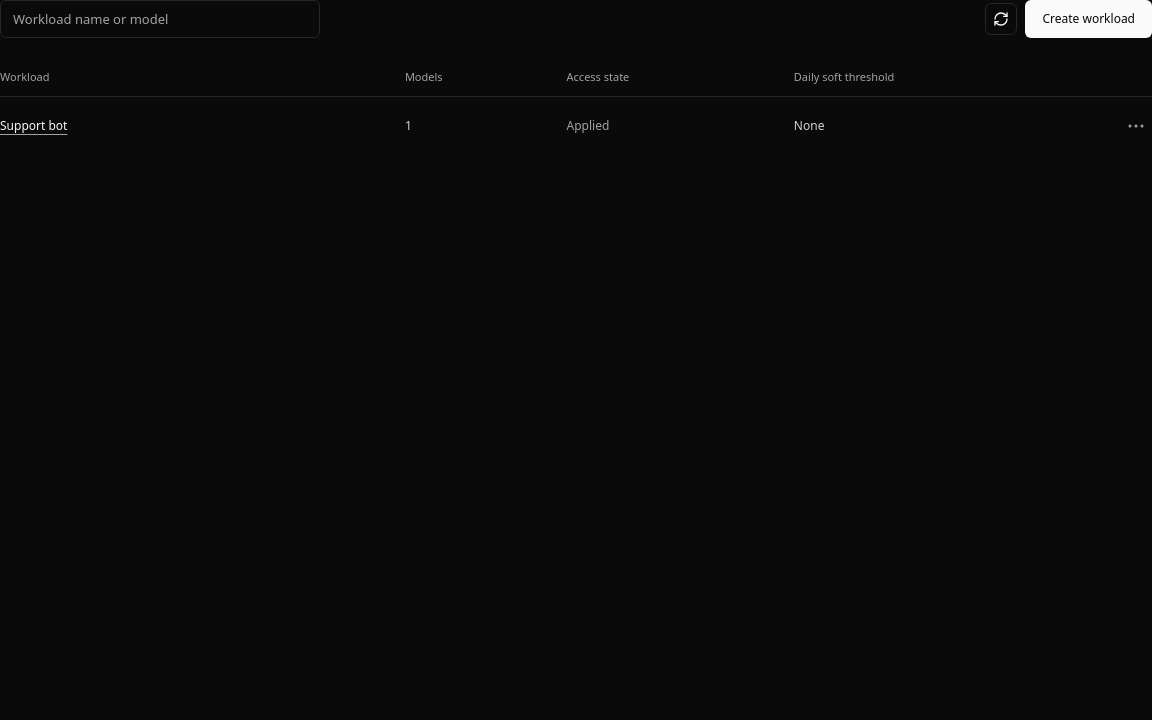
Workload model access › revokes a key with explicit descendant choice false
Click the button with aria-label "Open Support bot" at (34,126), box [0,116,67,135]
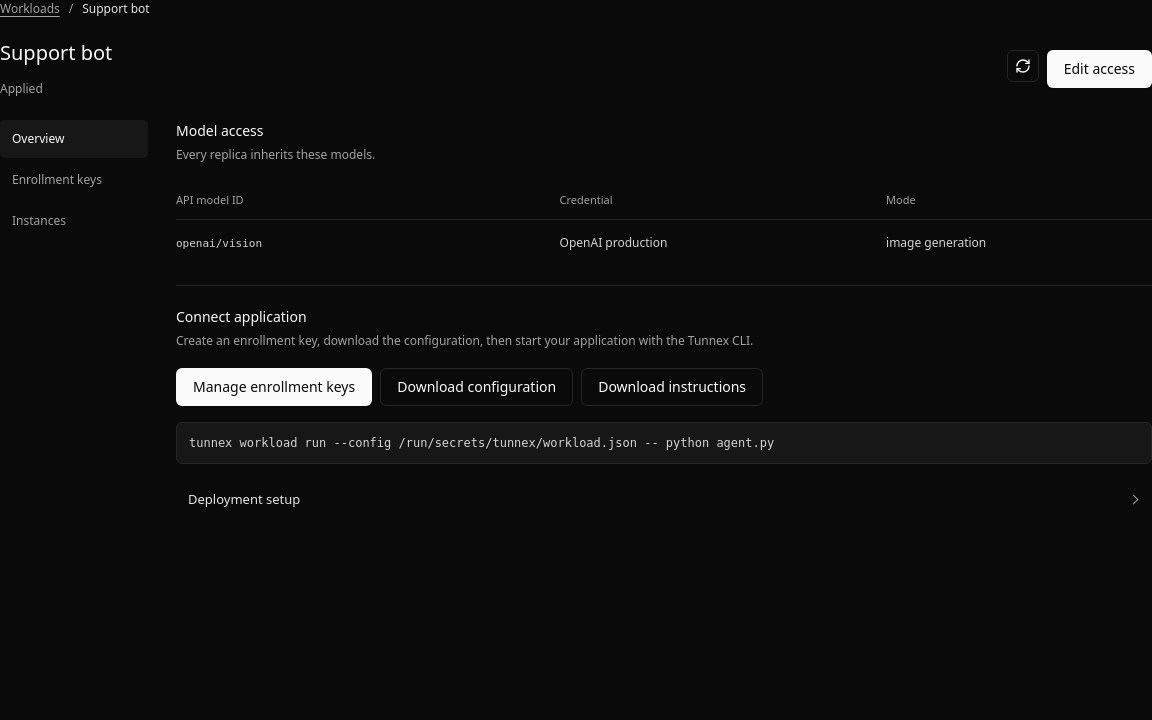
expect the button named "Refresh workload" is enabled: met, box [1007,50,1039,82]
Click the tab "Enrollment keys" at (74,180), box [0,161,148,199]
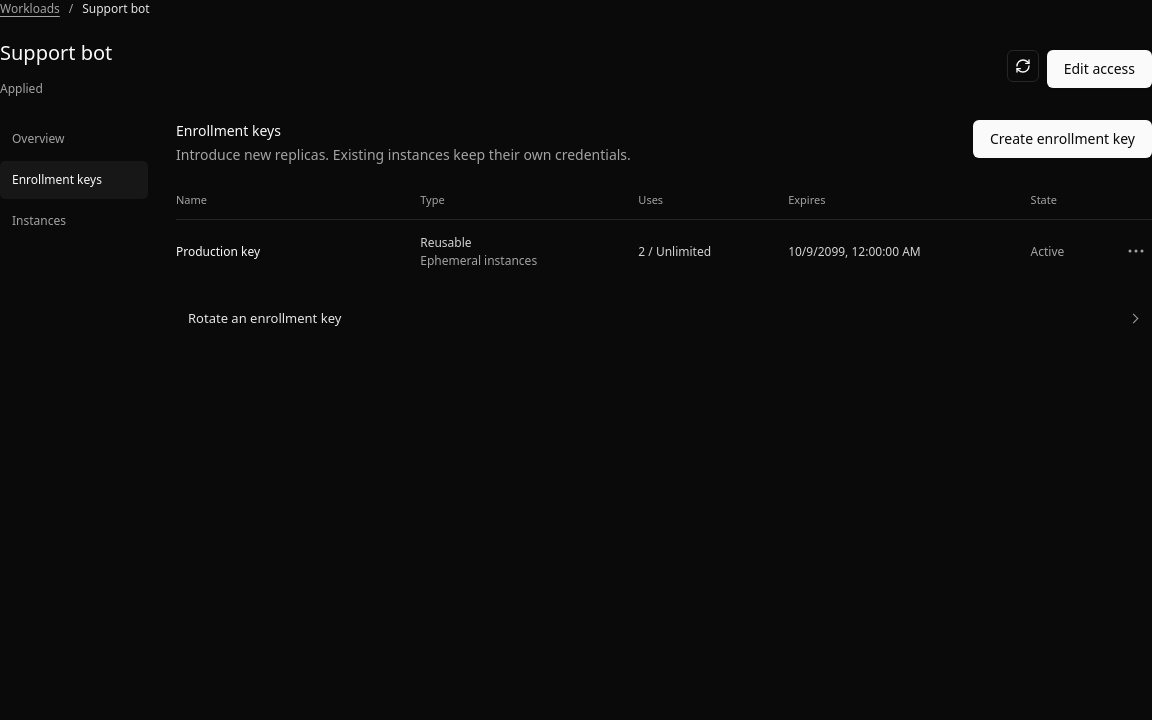
Click the button named "Actions for enrollment key Production key" at (1136,251), box [1120,235,1151,267]
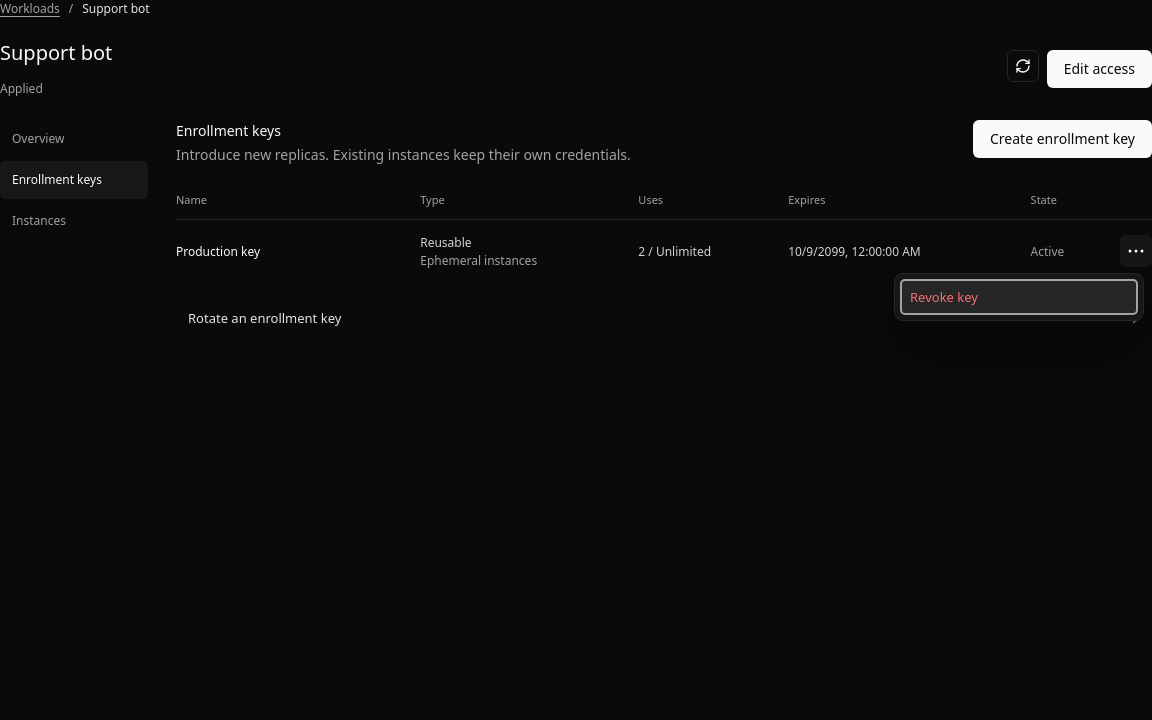
Click the menu item "Revoke key" at (1019,297), box [900,279,1138,315]
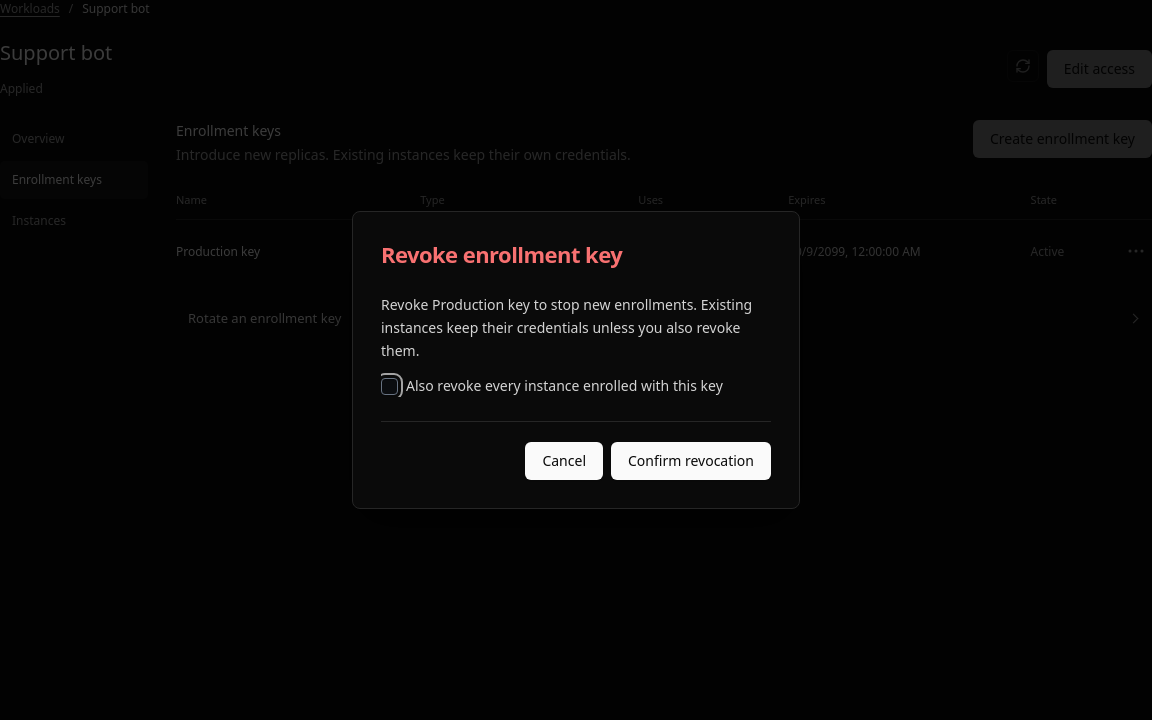
expect the checkbox labelled "Also revoke every instance enrolled with this key" is not checked: met, box [381,378,398,395]
Click the button "Confirm revocation" at (691,461), box [611,442,771,480]
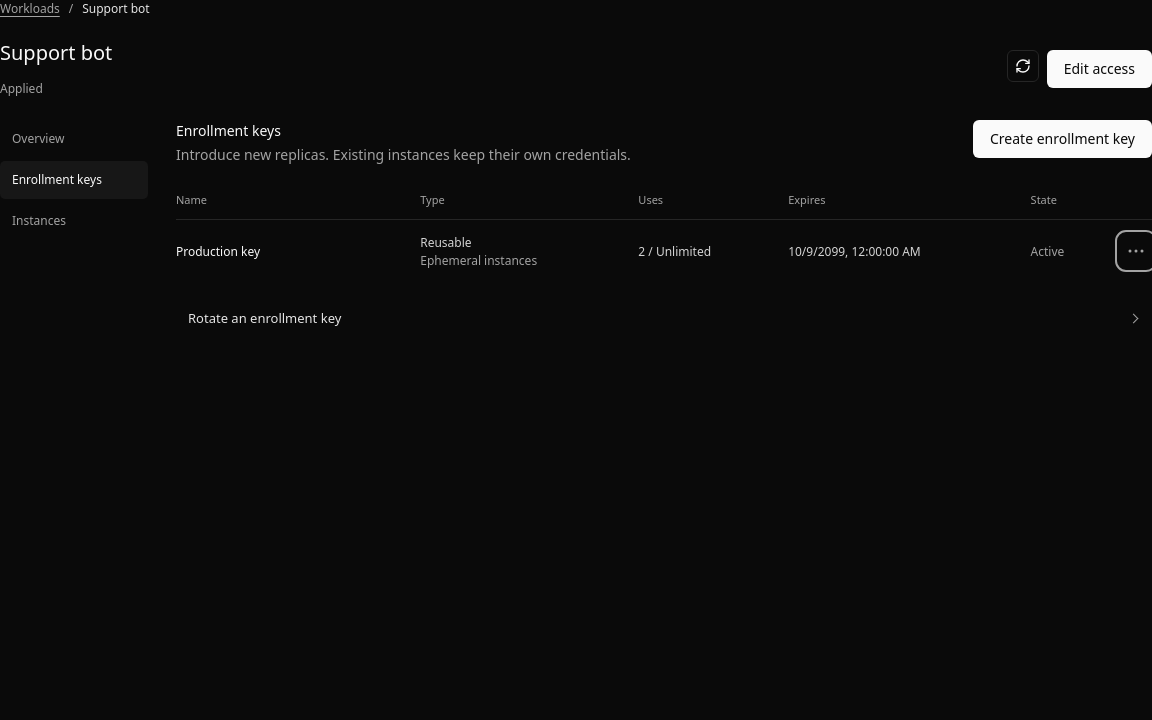
expect the dialog is gone: met
